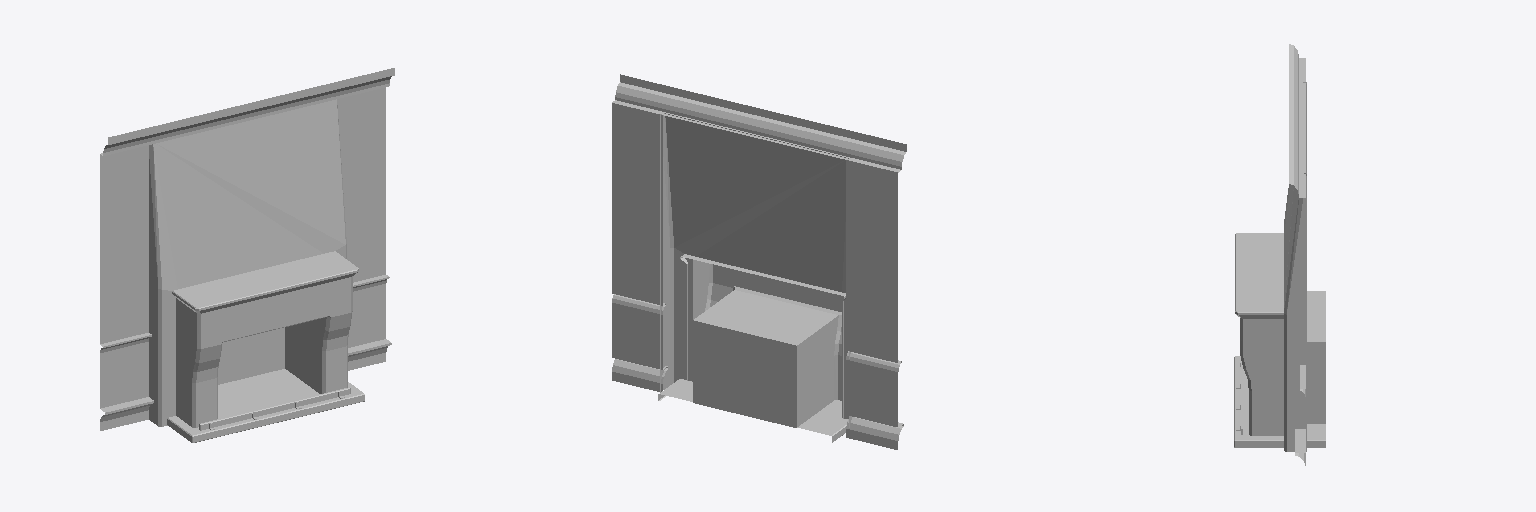
The model's file is mansion1_stove.obj.
3 views of the same model, side by side, from view 1: azimuth 30°, elevation 25°; view 2: azimuth 150°, elevation 25°; view 3: azimuth 270°, elevation 25° (orthographic).
Visible parts, largest first — view 1: mansionbase_wall_stove; view 2: mansionbase_wall_stove; view 3: mansionbase_wall_stove.
Part boxes in pixels (x1,y1,x2,y2): mansionbase_wall_stove: (100, 68, 394, 442); mansionbase_wall_stove: (612, 74, 906, 449); mansionbase_wall_stove: (1234, 44, 1325, 465).
Bounding box in the file's own units: 4 × 4 × 1.11.